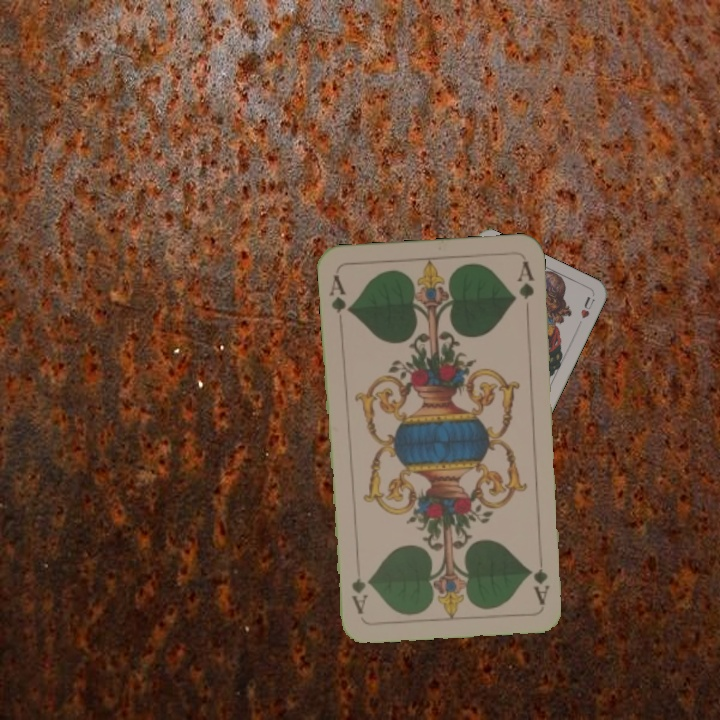GA: (325, 271, 354, 329), (529, 547, 552, 607)
